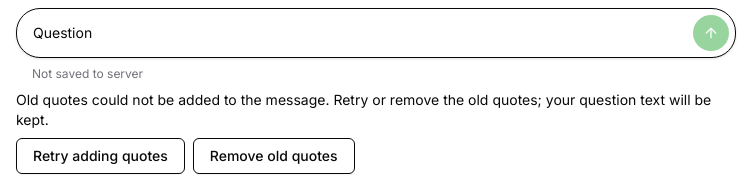
Test: keeps migration recovery editable through consecutive edits and retries successfully
Expected: the message is shown, [16,90,736,174]
Replace the text in the text box named "Message" with "Question a" at x=359, y=33, box [33,15,685,51]
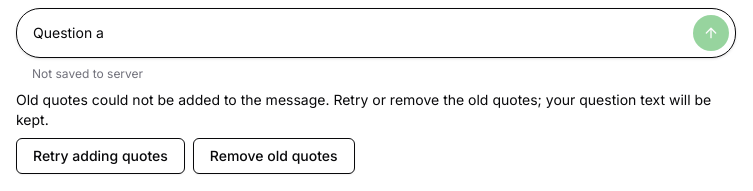
Expected: the button "Retry adding quotes" is enabled, [16,138,185,174]
Expected: the button named "Send" is disabled, [693,15,729,51]
Replace the text in the text box named "Message" with "Question ab" at x=359, y=33, box [33,15,685,51]
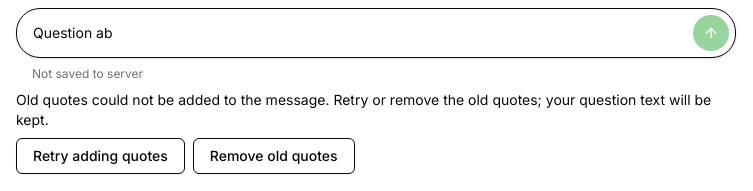
Expected: the button "Retry adding quotes" is enabled, [16,138,185,174]
Expected: the button named "Send" is disabled, [693,15,729,51]
Replace the text in the text box named "Message" with "Question abc" at x=359, y=33, box [33,15,685,51]
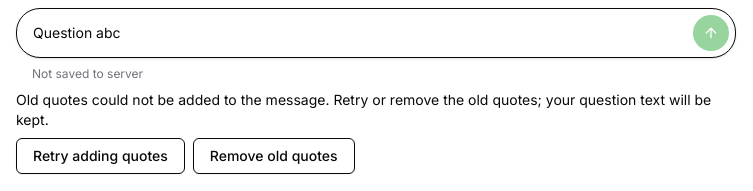
Expected: the button named "Send" is disabled, [693,15,729,51]
Click the button "Retry adding quotes" at x=100, y=156, box [16,138,185,174]
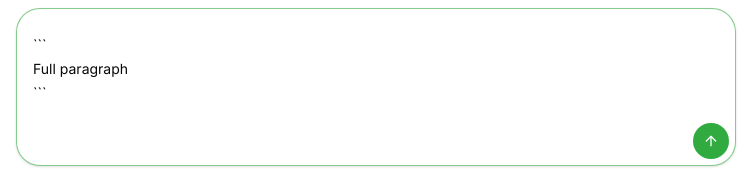
Now the button "Retry adding quotes" is gone
Now the button named "Send" is enabled, box [693,123,729,159]
